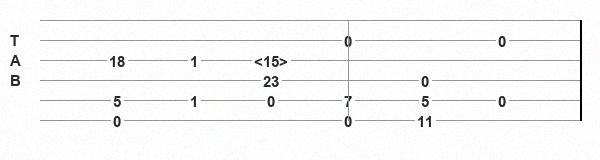0: (113, 113, 125, 128), (267, 93, 279, 108), (344, 113, 356, 128), (344, 33, 356, 48), (421, 73, 433, 88), (498, 93, 510, 108), (498, 33, 510, 48)
1: (190, 93, 202, 108), (190, 53, 202, 68)
11: (417, 113, 437, 128)
18: (109, 53, 129, 68)
23: (263, 73, 283, 88)
5: (113, 93, 125, 108), (421, 93, 433, 108)
7: (344, 93, 356, 108)
harmonic: (254, 53, 292, 68)
